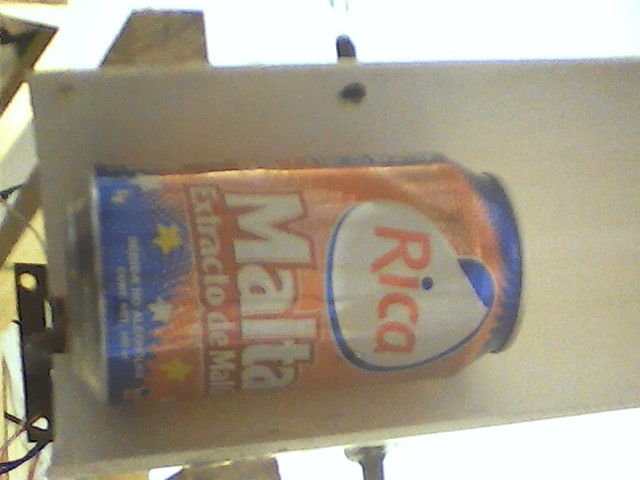lata: (58, 151, 531, 410)
